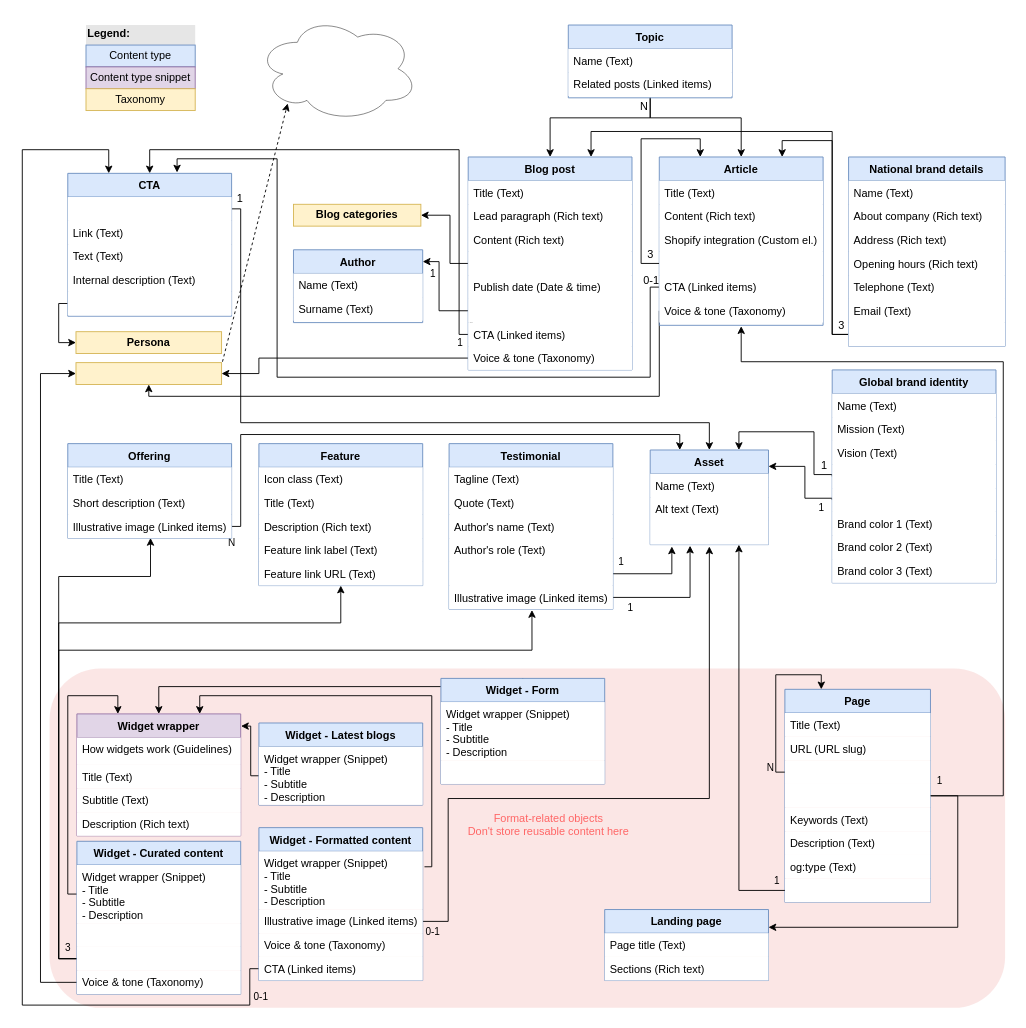
Image size: 1026x1028. Some labels were removed from this diagram. The centre of each missing label's shape, as x and y in pixels:
"Asset (Asset)" goes at (709,532).
"Author (Linked items)" goes at (550,310).
"Author's photo (Linked items)" goes at (530,573).
"Blog categories (Taxonomy)" goes at (550,263).
"Content (Linked items)" goes at (857,795).
"Form ID (Text)" goes at (522,772).
"How to link (Guildelines)" goes at (158,934).
"Image (Linked items)" goes at (149,208).
"Logotype—negative (Linked it.)" goes at (914,499).
"Logotype—positive (Linked it.)" goes at (914,476).
"og:image (Linked items)" goes at (857,890).
"Persona (Taxonomy)" goes at (149,303).
"Promoted posts (Linked items)" goes at (926,334).
"Related articles (Linked items)" goes at (741,263).
"Subpages (Subpages)" goes at (857,772).
"Top N items (Linked items)" goes at (158,958).
"Values: Heroic (=hero image) Playful (=alternating) Serious (=list)" goes at (337,68).
"Voice & tone" goes at (148,373).
